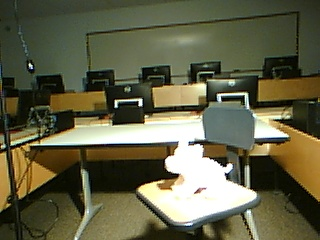piggy: (162, 139, 234, 197)
